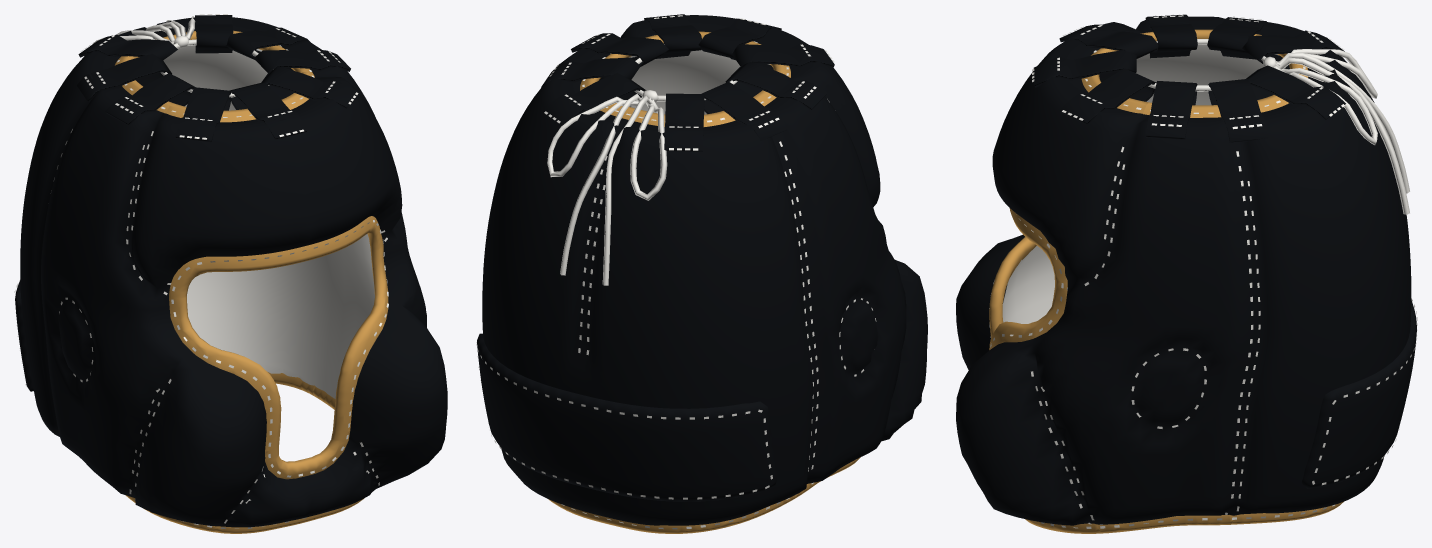
The model's file is head-guard.glb.
3 renders of one model, left to right at view 1: azimuth 30°, elevation 25°; view 2: azimuth 150°, elevation 25°; view 3: azimuth 270°, elevation 25°, orthographic. The views are drawn at different scales.
Parts seen in each view (by area): view 1: HEADGUARD_LEATHER, HEADGUARD_LINING, HEADGUARD_BINDING, HEADGUARD_IVORY; view 2: HEADGUARD_LEATHER, HEADGUARD_IVORY, HEADGUARD_LINING, HEADGUARD_BINDING; view 3: HEADGUARD_LEATHER, HEADGUARD_BINDING, HEADGUARD_IVORY, HEADGUARD_LINING.
Boxes of the visible parts, bbox=[...] form: HEADGUARD_LEATHER: bbox=[15, 15, 447, 527]; HEADGUARD_LINING: bbox=[163, 45, 374, 398]; HEADGUARD_BINDING: bbox=[115, 30, 388, 533]; HEADGUARD_IVORY: bbox=[14, 14, 388, 528]; HEADGUARD_LEATHER: bbox=[477, 14, 927, 525]; HEADGUARD_IVORY: bbox=[476, 15, 876, 529]; HEADGUARD_LINING: bbox=[629, 50, 769, 114]; HEADGUARD_BINDING: bbox=[548, 31, 860, 533]; HEADGUARD_LEATHER: bbox=[956, 14, 1416, 525]; HEADGUARD_BINDING: bbox=[989, 29, 1343, 533]; HEADGUARD_IVORY: bbox=[989, 14, 1417, 528]; HEADGUARD_LINING: bbox=[1002, 45, 1278, 323].
Bounding box in the file's own units: 0.2086 × 0.2537 × 0.2445.
